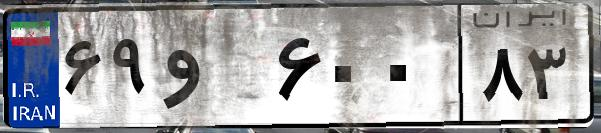0: (385, 28, 445, 110), (330, 28, 385, 110)
3: (525, 38, 570, 115)
6: (270, 28, 330, 110), (57, 26, 110, 100)
8: (475, 38, 525, 113)
9: (110, 28, 158, 98)
و: (158, 20, 270, 120)
